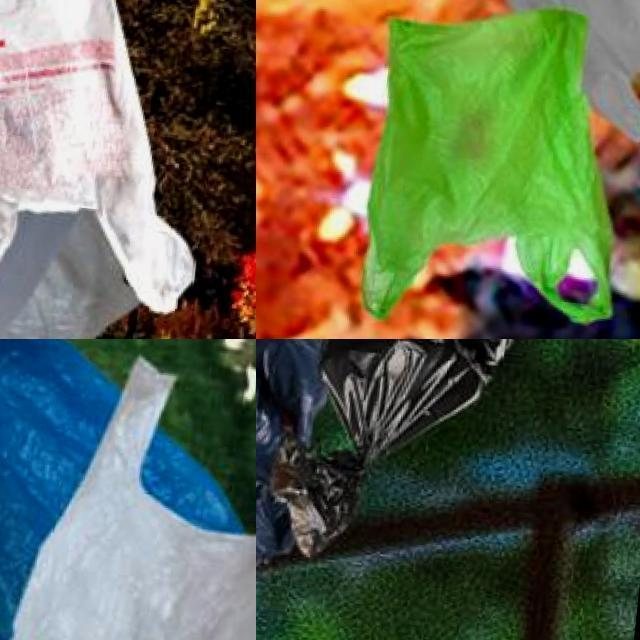waste: (358, 0, 640, 336), (0, 339, 256, 640), (0, 344, 256, 640), (0, 0, 227, 316), (447, 0, 640, 144), (256, 339, 339, 445), (256, 461, 304, 599)
